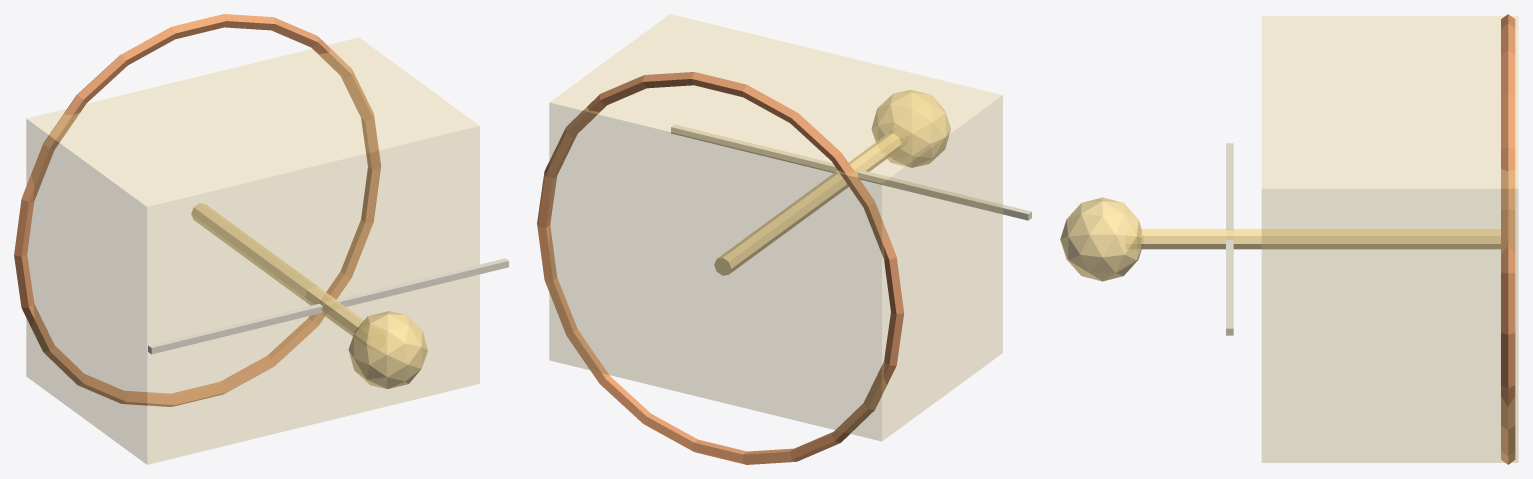
The model's file is 05_dynamic_camera_trigger.glb.
The picture shows the model from 3 angles, left to right: view 1: azimuth 30°, elevation 25°; view 2: azimuth 150°, elevation 25°; view 3: azimuth 270°, elevation 25°; orthographic projection. The views are drawn at different scales.
Parts seen in each view (by area): view 1: camera_trigger_volume, combat_start_ring, focus_target, focus_target_pole, camera_axis; view 2: camera_trigger_volume, combat_start_ring, focus_target, focus_target_pole, camera_axis; view 3: camera_trigger_volume, focus_target_pole, combat_start_ring, focus_target, camera_axis.
Boxes of the visible parts, x1=… form: camera_trigger_volume: x1=26, y1=37, x2=479, y2=464; combat_start_ring: x1=14, y1=14, x2=380, y2=406; focus_target: x1=348, y1=311, x2=427, y2=389; focus_target_pole: x1=191, y1=203, x2=364, y2=336; camera_axis: x1=148, y1=258, x2=508, y2=354; camera_trigger_volume: x1=549, y1=14, x2=1002, y2=441; combat_start_ring: x1=537, y1=72, x2=904, y2=464; focus_target: x1=871, y1=90, x2=950, y2=167; focus_target_pole: x1=714, y1=133, x2=901, y2=275; camera_axis: x1=671, y1=124, x2=1031, y2=220; camera_trigger_volume: x1=1262, y1=16, x2=1518, y2=462; focus_target_pole: x1=1141, y1=229, x2=1500, y2=249; combat_start_ring: x1=1501, y1=14, x2=1515, y2=464; focus_target: x1=1060, y1=197, x2=1141, y2=281; camera_axis: x1=1226, y1=143, x2=1233, y2=335.
Bounding box in the file's own units: 1.49 × 1.47 × 1.51.
